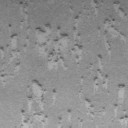oxide scale of temperature system: (19, 2, 82, 70), (94, 0, 128, 90), (20, 78, 72, 128), (0, 32, 20, 86), (114, 83, 128, 125), (84, 98, 96, 118), (91, 0, 98, 14), (8, 23, 12, 28)
